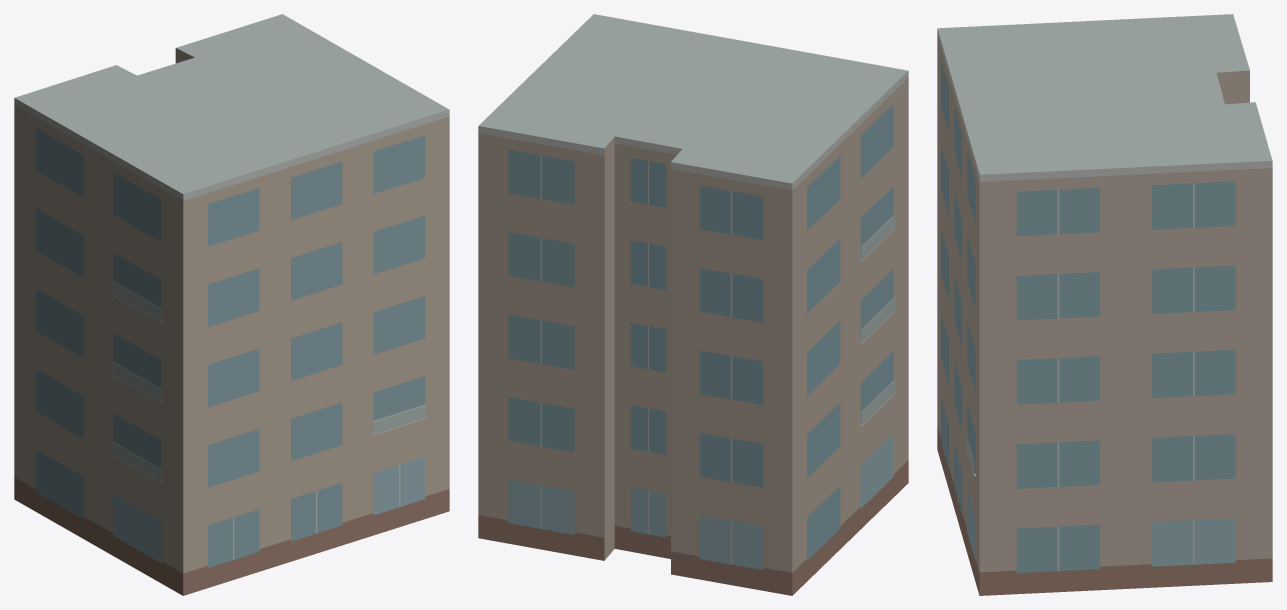
Rendered from survey-upis-32948382.glb.
3 renders of one model, left to right at view 1: azimuth 30°, elevation 25°; view 2: azimuth 150°, elevation 25°; view 3: azimuth 270°, elevation 25°, orthographic. The views are drawn at different scales.
Parts seen in each view (by area): view 1: survey-upis-32948382.tmp; view 2: survey-upis-32948382.tmp; view 3: survey-upis-32948382.tmp.
Part boxes in pixels (x1,y1,x2,y2): survey-upis-32948382.tmp: [14, 14, 449, 595]; survey-upis-32948382.tmp: [478, 14, 908, 595]; survey-upis-32948382.tmp: [937, 14, 1272, 595].
Size of the model in its own units: 11.72 by 14.3 by 10.33.
